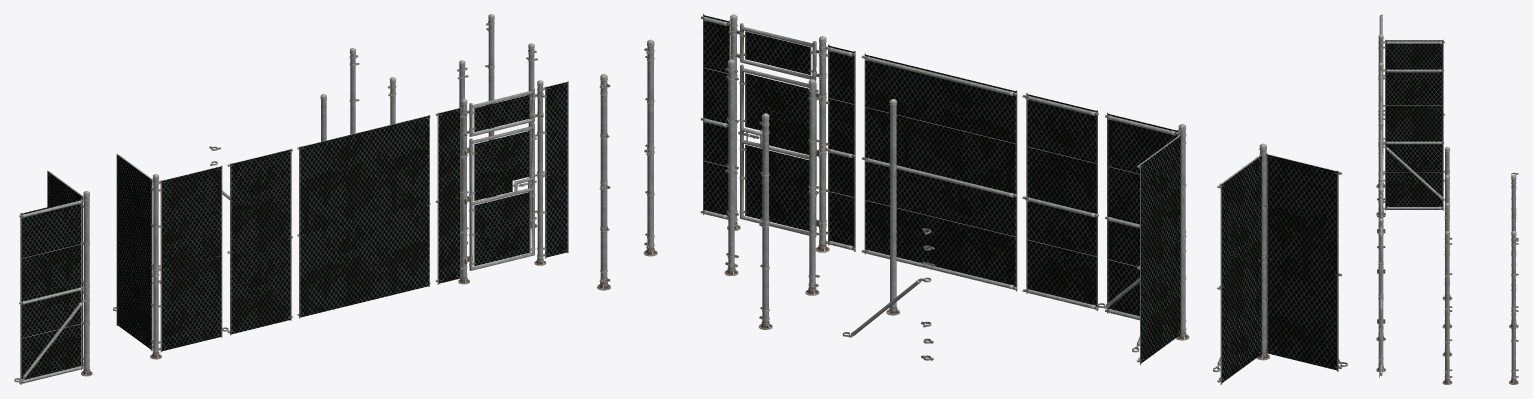
Rendered from modular_chainlink_fence.glb.
3 renders of one model, left to right at view 1: azimuth 30°, elevation 25°; view 2: azimuth 150°, elevation 25°; view 3: azimuth 270°, elevation 25°, orthographic. The views are drawn at different scales.
Visible parts, largest first — view 1: modular_chainlink_fence_double, modular_chainlink_fence_corner_outer, modular_chainlink_fence_door_frame, modular_chainlink_fence_corner_inner, modular_chainlink_fence, modular_chainlink_fence_door_gate, modular_chainlink_fence_start_01_corner_02, modular_chainlink_fence_start_01_corner_01, modular_chainlink_fence_end_02; view 2: modular_chainlink_fence_double, modular_chainlink_fence_corner_inner, modular_chainlink_fence_corner_outer, modular_chainlink_fence_door_frame, modular_chainlink_fence, modular_chainlink_fence_door_gate, modular_chainlink_fence_start_01_corner_02, modular_chainlink_post_middle, modular_chainlink_fence_end_01, modular_chainlink_fence_start_01_corner_01, modular_chainlink_fence_end_02, modular_chainlink_fence_post; view 3: modular_chainlink_fence_corner_outer, modular_chainlink_fence_corner_inner, modular_chainlink_fence_door_frame, modular_chainlink_fence_start_01_corner_01, modular_chainlink_fence_start_01_corner_02, modular_chainlink_fence_end_02, modular_chainlink_fence_double, modular_chainlink_post_middle, modular_chainlink_fence_end_01, modular_chainlink_fence_post.
Boxes of the visible parts, x1,y1,x2,y2 form: modular_chainlink_fence_double: (297,115,430,318); modular_chainlink_fence_corner_outer: (113,154,228,359); modular_chainlink_fence_door_frame: (435,80,568,284); modular_chainlink_fence_corner_inner: (14,170,92,384); modular_chainlink_fence: (227,148,292,335); modular_chainlink_fence_door_gate: (469,123,535,270); modular_chainlink_fence_start_01_corner_02: (485,14,496,198); modular_chainlink_fence_start_01_corner_01: (526,43,537,228); modular_chainlink_fence_end_02: (349,48,359,134); modular_chainlink_fence_double: (861,53,1017,291); modular_chainlink_fence_corner_inner: (1213,143,1347,384); modular_chainlink_fence_corner_outer: (1097,112,1189,365); modular_chainlink_fence_door_frame: (700,14,855,252); modular_chainlink_fence: (1022,93,1098,310); modular_chainlink_fence_door_gate: (739,64,816,236); modular_chainlink_fence_start_01_corner_02: (597,74,610,290); modular_chainlink_post_middle: (724,59,738,275); modular_chainlink_fence_end_01: (805,79,819,295); modular_chainlink_fence_start_01_corner_01: (643,39,657,256); modular_chainlink_fence_end_02: (758,113,772,329); modular_chainlink_fence_post: (886,99,900,315); modular_chainlink_fence_corner_outer: (1376,62,1449,228); modular_chainlink_fence_corner_inner: (1376,14,1449,188); modular_chainlink_fence_door_frame: (1376,182,1385,377); modular_chainlink_fence_start_01_corner_01: (1442,231,1452,384); modular_chainlink_fence_start_01_corner_02: (1509,231,1518,384); modular_chainlink_fence_end_02: (1509,175,1518,328); modular_chainlink_fence_double: (1379,126,1382,183); modular_chainlink_post_middle: (1442,203,1452,356); modular_chainlink_fence_end_01: (1442,175,1452,328); modular_chainlink_fence_post: (1442,146,1452,300).
Bounding box in the file's own units: 8.12 × 2.52 × 2.15.
2 materials, 2 textured.
